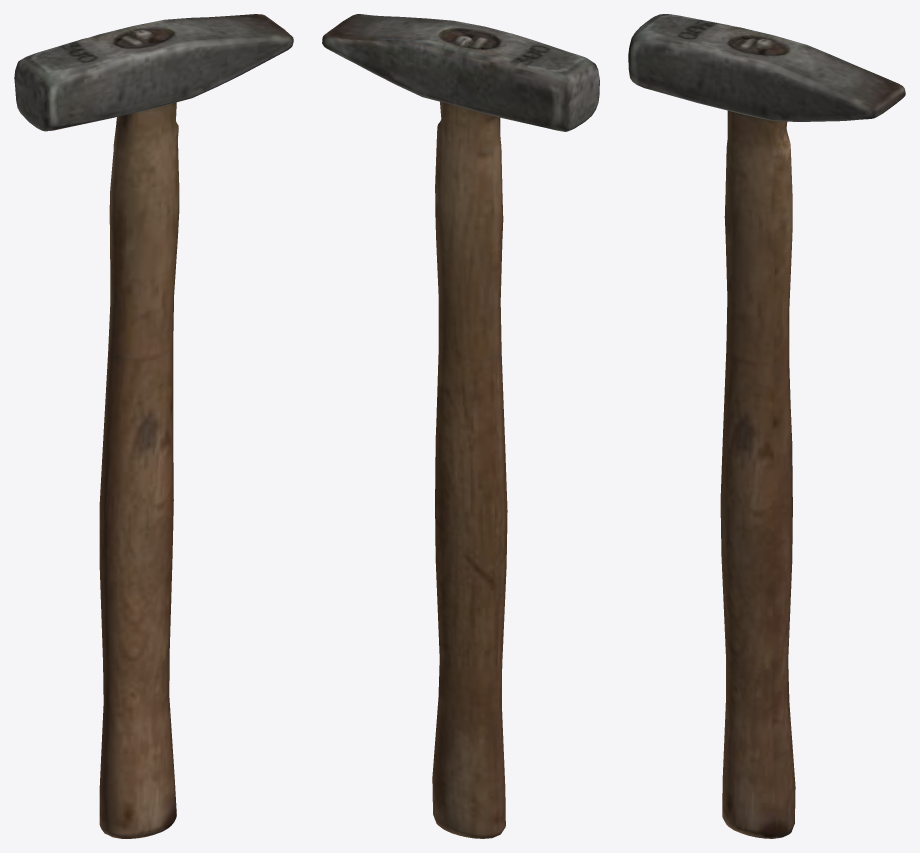
Rendered from cross_pein_hammer.l.ecad02d2.glb.
The picture shows the model from 3 angles, left to right: view 1: azimuth 30°, elevation 25°; view 2: azimuth 150°, elevation 25°; view 3: azimuth 330°, elevation 25°; orthographic projection.
Visible parts, largest first — view 1: cross_pein_hammer; view 2: cross_pein_hammer; view 3: cross_pein_hammer.
Boxes of the visible parts, bbox=[...] form: cross_pein_hammer: bbox=[14, 14, 293, 838]; cross_pein_hammer: bbox=[322, 14, 599, 838]; cross_pein_hammer: bbox=[628, 14, 905, 838].
Size of the model in its own units: 0.0991 by 0.3002 by 0.0243.
1 material, 1 textured.
